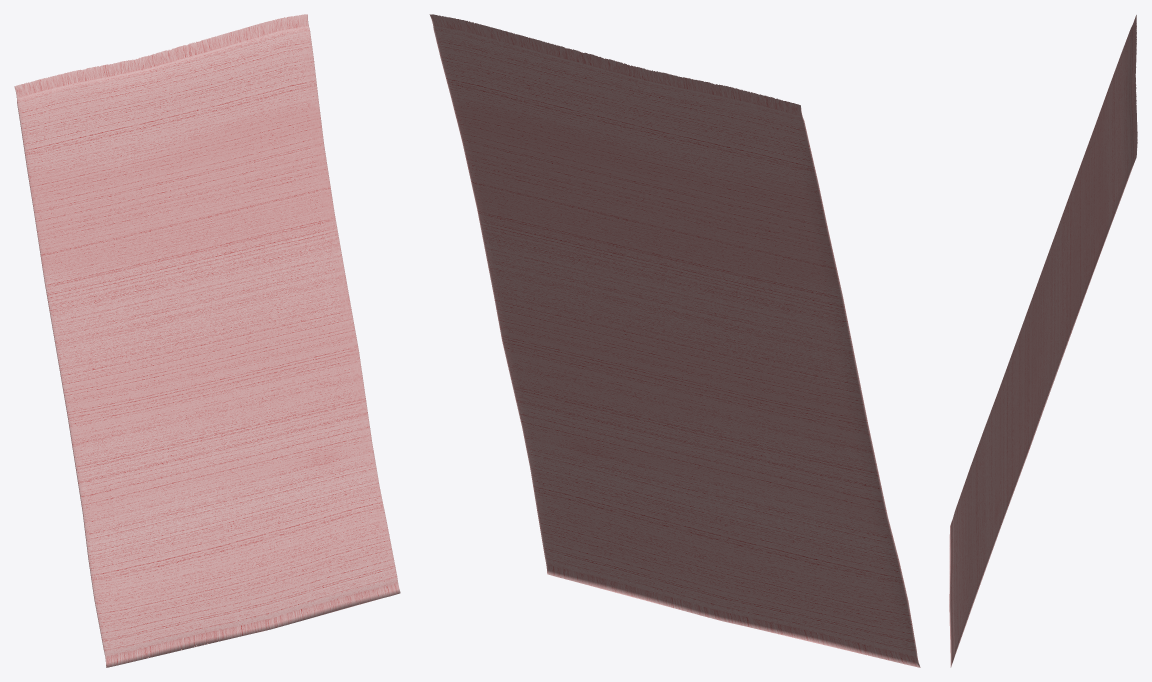
File: matta (4).glb
The picture shows the model from 3 angles, left to right: view 1: azimuth 30°, elevation 25°; view 2: azimuth 150°, elevation 25°; view 3: azimuth 270°, elevation 25°; orthographic projection. The views are drawn at different scales.
Parts seen in each view (by area): view 1: node_id4; view 2: node_id4; view 3: node_id4.
Boxes of the visible parts, x1,y1,x2,y2 form: node_id4: (14, 14, 400, 667); node_id4: (429, 14, 920, 667); node_id4: (949, 15, 1137, 667).
Bounding box in the file's own units: 0.5103 × 0.8517 × 0.2807.
Materials: 1 (1 with a texture image).
